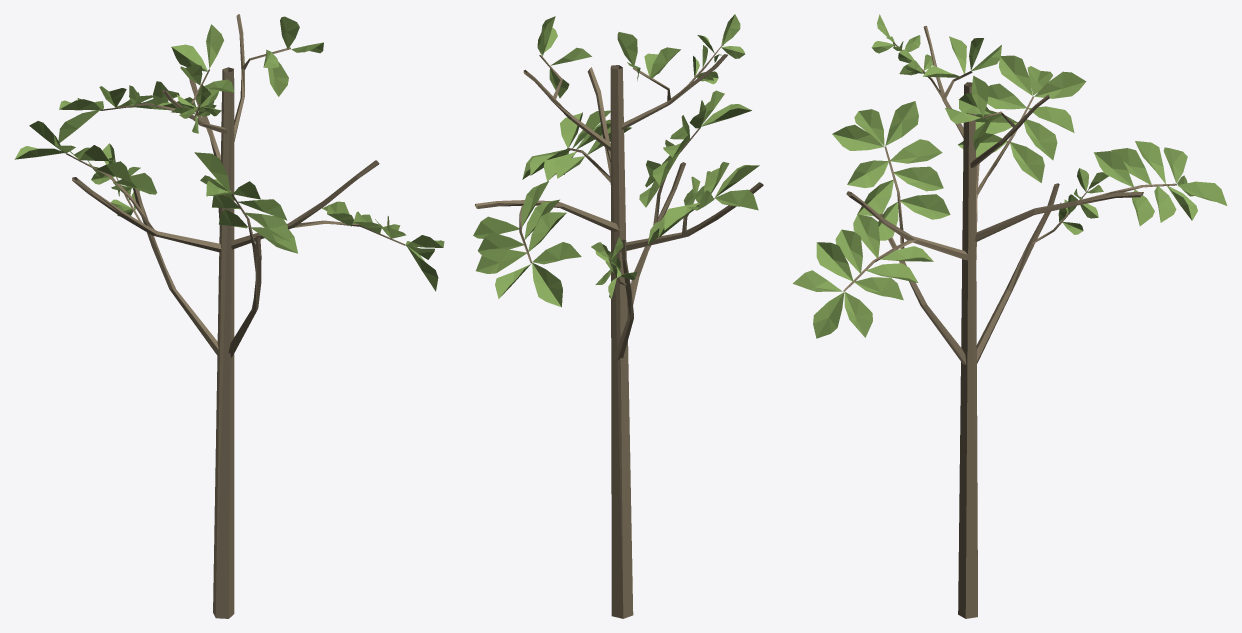
The model's file is Peach_2_3.fbx.
3 views of the same model, side by side, from view 1: azimuth 30°, elevation 25°; view 2: azimuth 150°, elevation 25°; view 3: azimuth 270°, elevation 25° (orthographic). The views are drawn at different scales.
Visible parts, largest first — view 1: Peach_2_3; view 2: Peach_2_3; view 3: Peach_2_3.
Boxes of the visible parts, x1,y1,x2,y2 form: Peach_2_3: (14, 14, 444, 618); Peach_2_3: (473, 14, 763, 618); Peach_2_3: (793, 14, 1227, 618).
Size of the model in its own units: 121 by 208 by 143.
